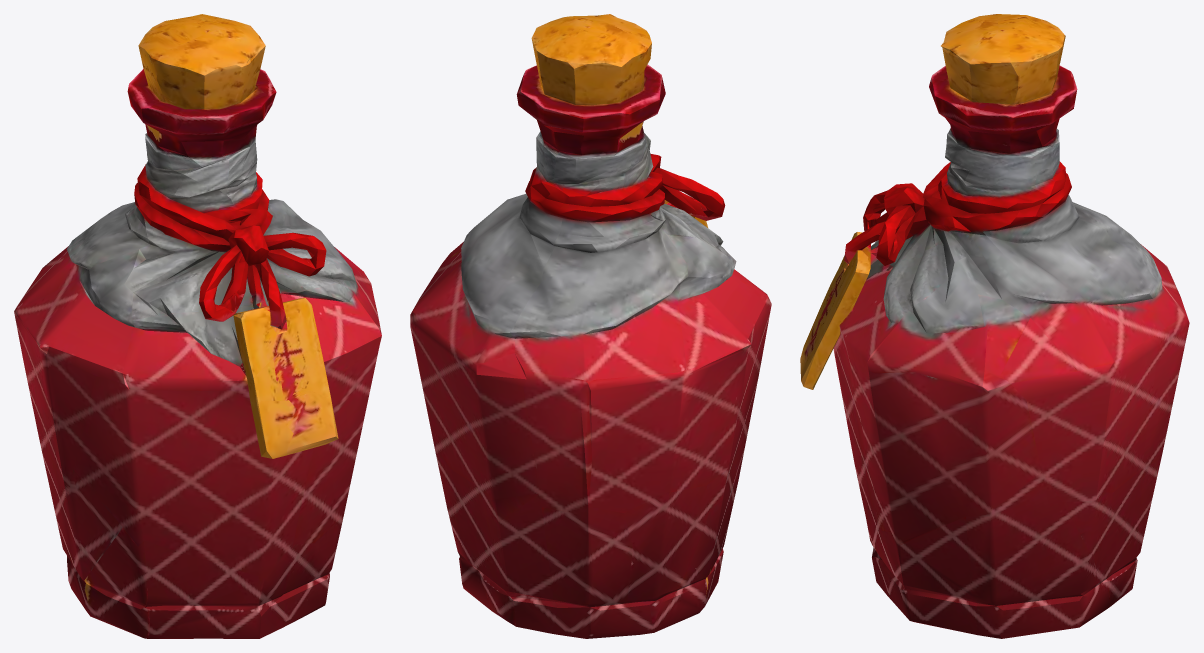
File: potion_hp.ad681791.glb
3 renders of one model, left to right at view 1: azimuth 30°, elevation 25°; view 2: azimuth 150°, elevation 25°; view 3: azimuth 270°, elevation 25°, orthographic.
Visible parts, largest first — view 1: tripo_node_35bf617f-0f63-4479-9759-8b0df1c90242; view 2: tripo_node_35bf617f-0f63-4479-9759-8b0df1c90242; view 3: tripo_node_35bf617f-0f63-4479-9759-8b0df1c90242.
Part boxes in pixels (box(x1,y1,x2,y2)): tripo_node_35bf617f-0f63-4479-9759-8b0df1c90242: box(14, 14, 381, 638); tripo_node_35bf617f-0f63-4479-9759-8b0df1c90242: box(410, 14, 771, 638); tripo_node_35bf617f-0f63-4479-9759-8b0df1c90242: box(800, 14, 1189, 638).
Size of the model in its own units: 0.3575 by 0.5995 by 0.3779.
1 material, 1 textured.
